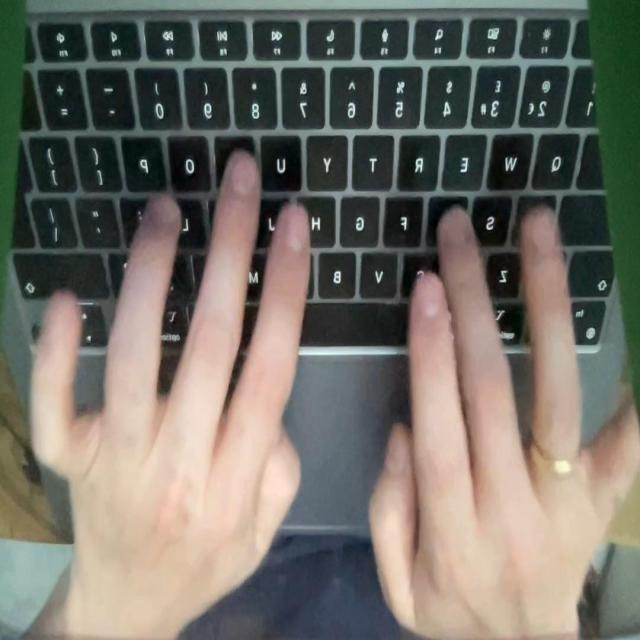keyboard-with-hands: (2, 0, 624, 539)
